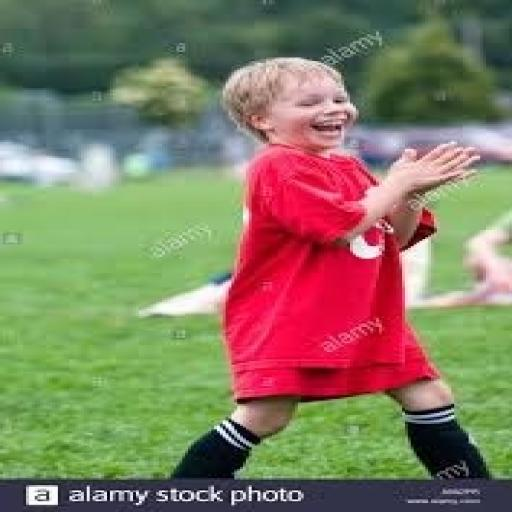clapping: (162, 56, 495, 480)
